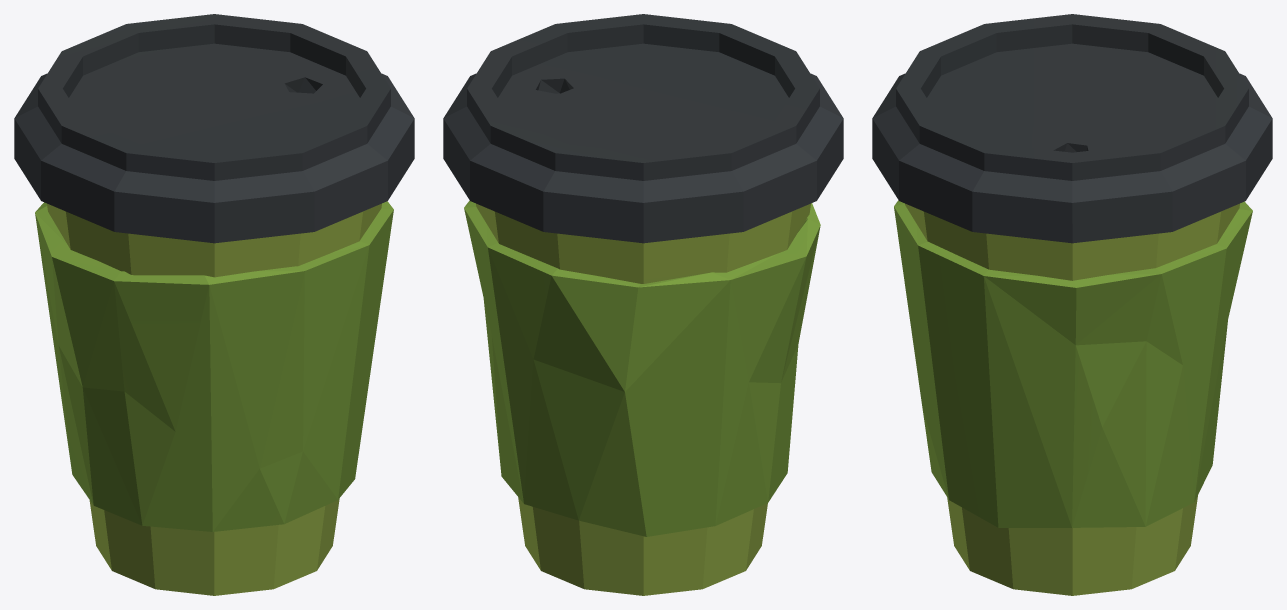
File: Cup_03.fbx
3 renders of one model, left to right at view 1: azimuth 30°, elevation 25°; view 2: azimuth 150°, elevation 25°; view 3: azimuth 270°, elevation 25°, orthographic.
Parts seen in each view (by area): view 1: Cup_03; view 2: Cup_03; view 3: Cup_03.
Boxes of the visible parts, bbox=[...] form: Cup_03: bbox=[14, 14, 414, 595]; Cup_03: bbox=[443, 14, 843, 595]; Cup_03: bbox=[872, 14, 1272, 595].
Size of the model in its own units: 0.1266 by 0.1596 by 0.1266.
